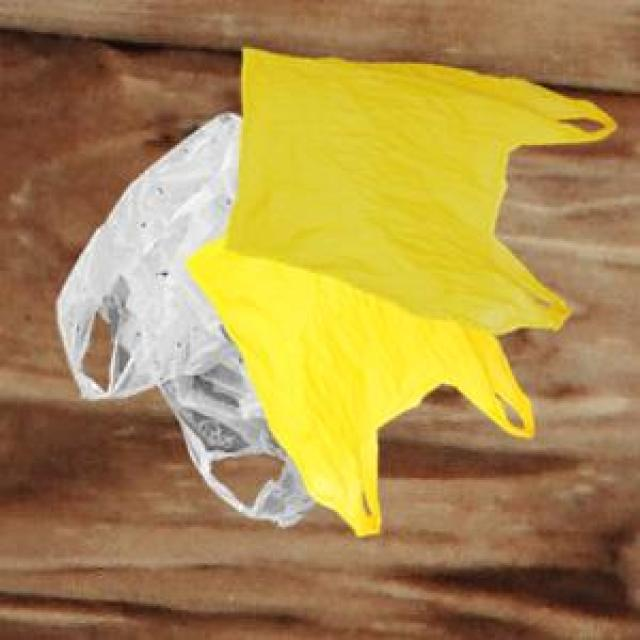plastic: (38, 43, 620, 549)
